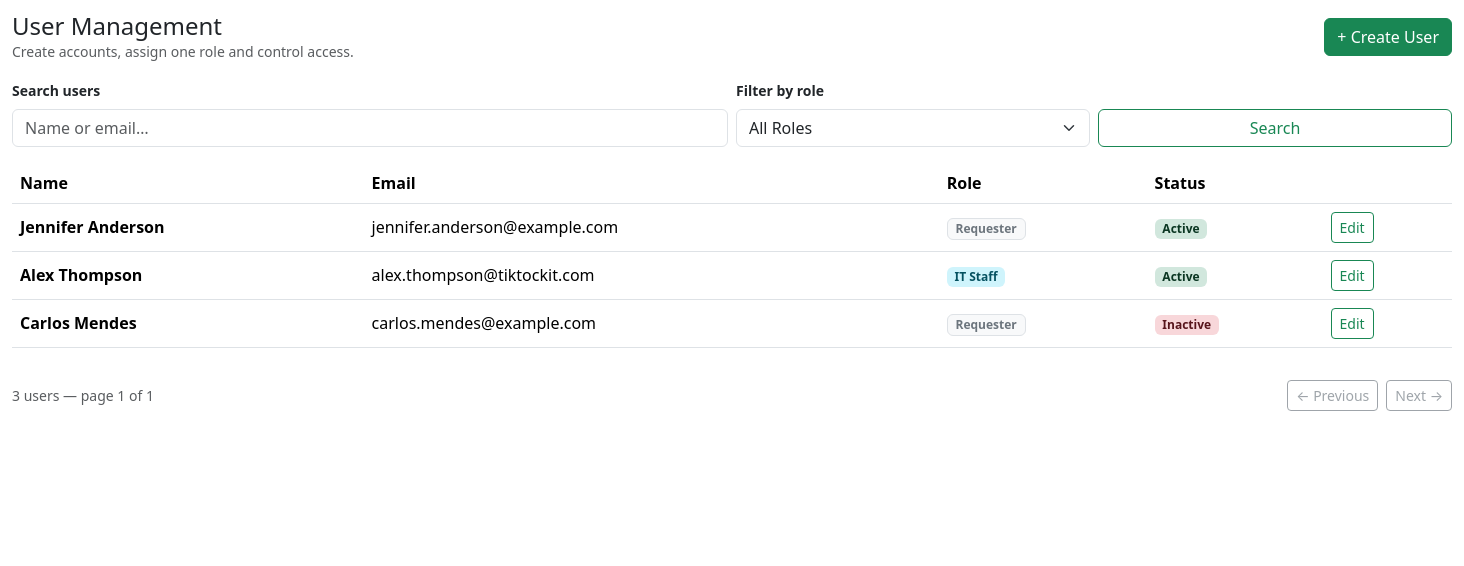
Scenario: UserManagement › edits a user's role
Click the button with aria-label "edit jennifer anderson".
click(1352, 227)  # box [1331,212,1374,243]
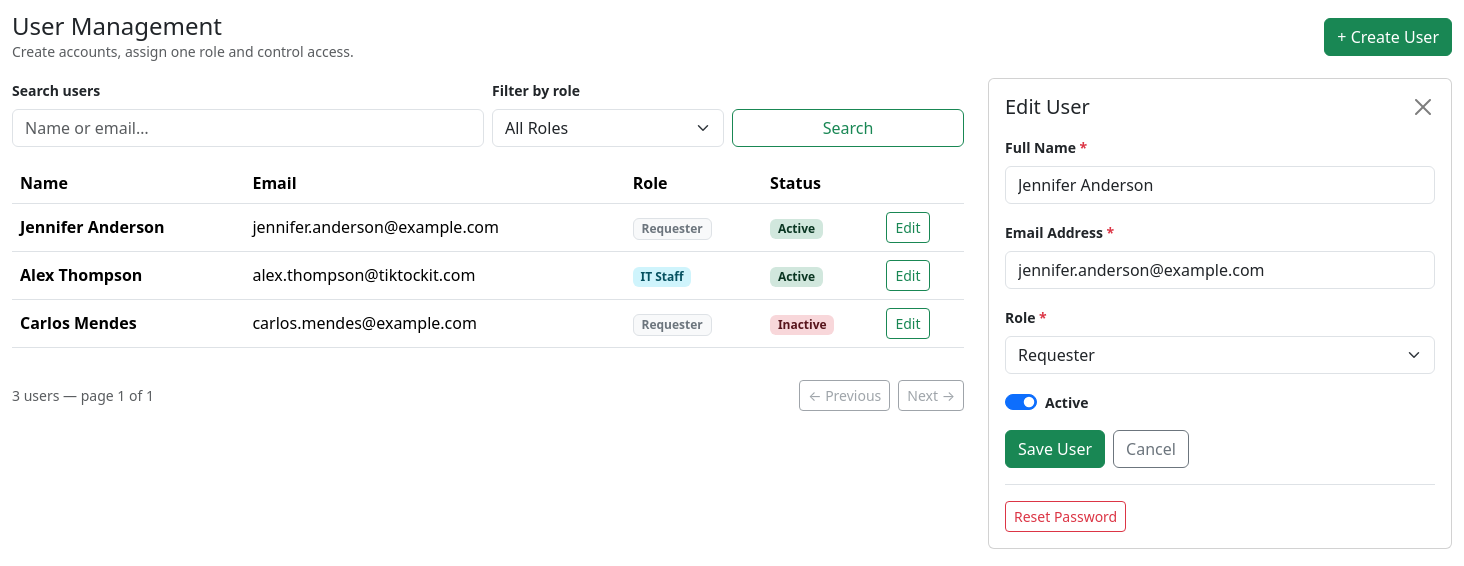
Now the field labelled "Full Name *" holds "Jennifer Anderson", box [1005,166,1435,204]
Select "IT Staff" in the dropdown labelled "Role *" at point(1220, 355), box [1005,336,1435,374]
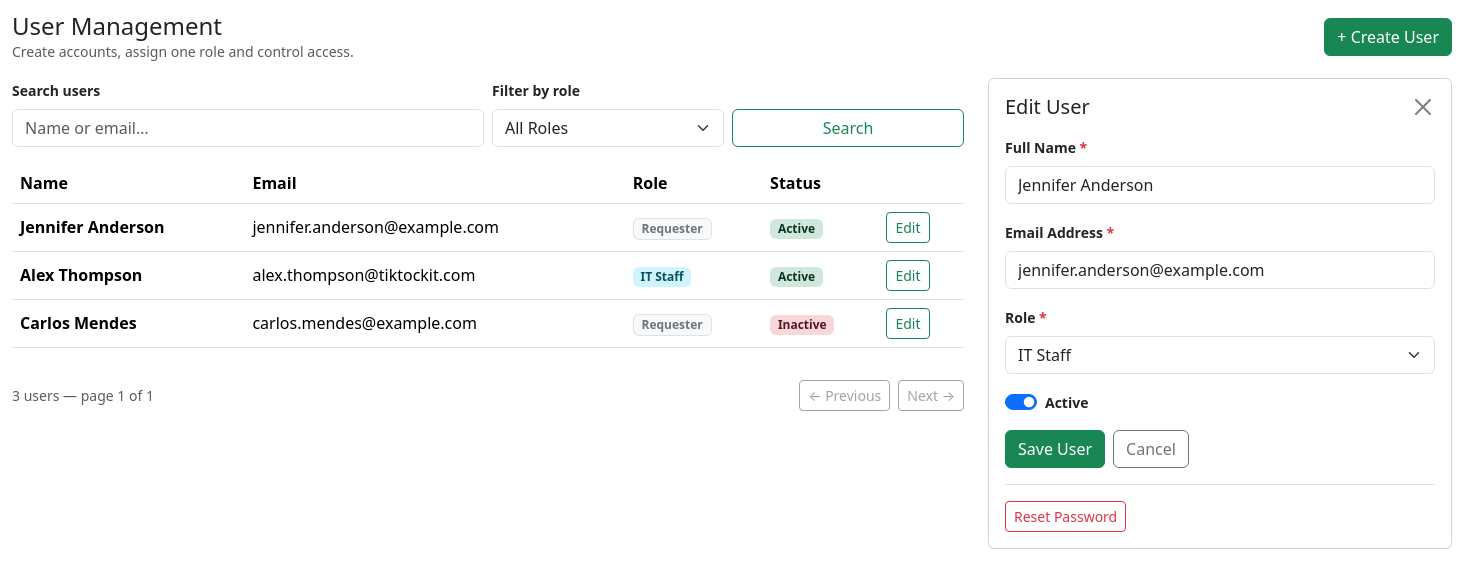
Click the button "Save User".
click(1055, 449)  # box [1005,430,1105,468]
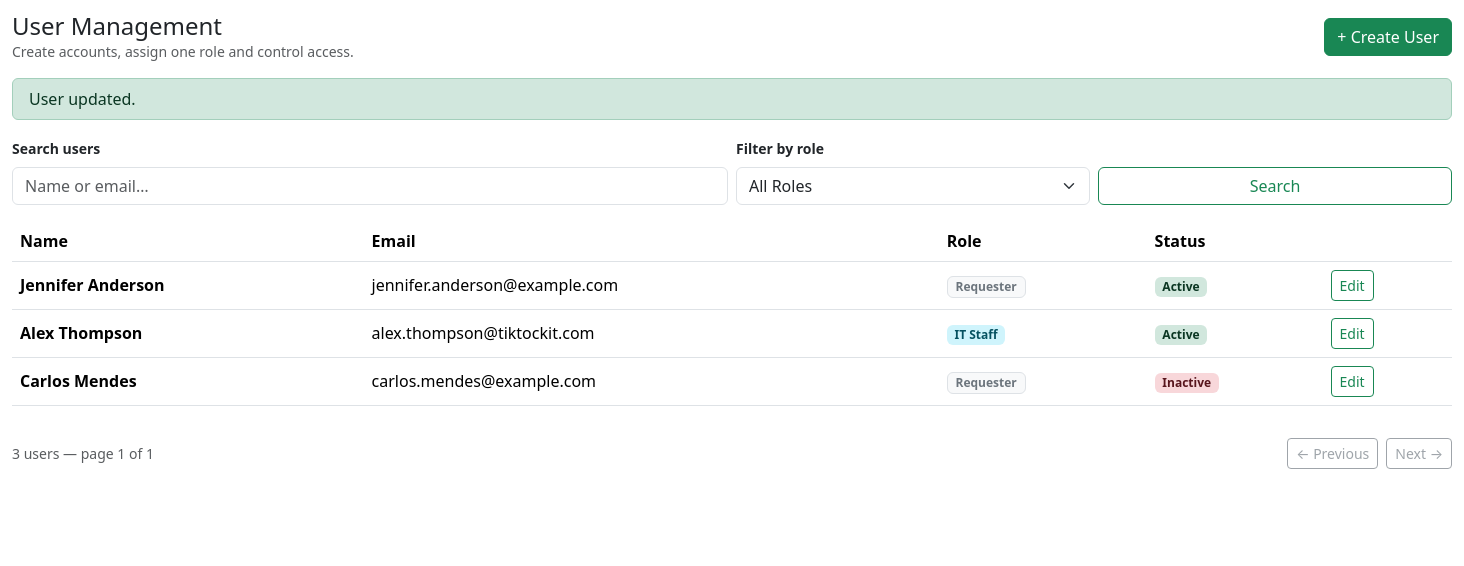
Now the text "User updated." is shown, box [12,78,1452,120]
